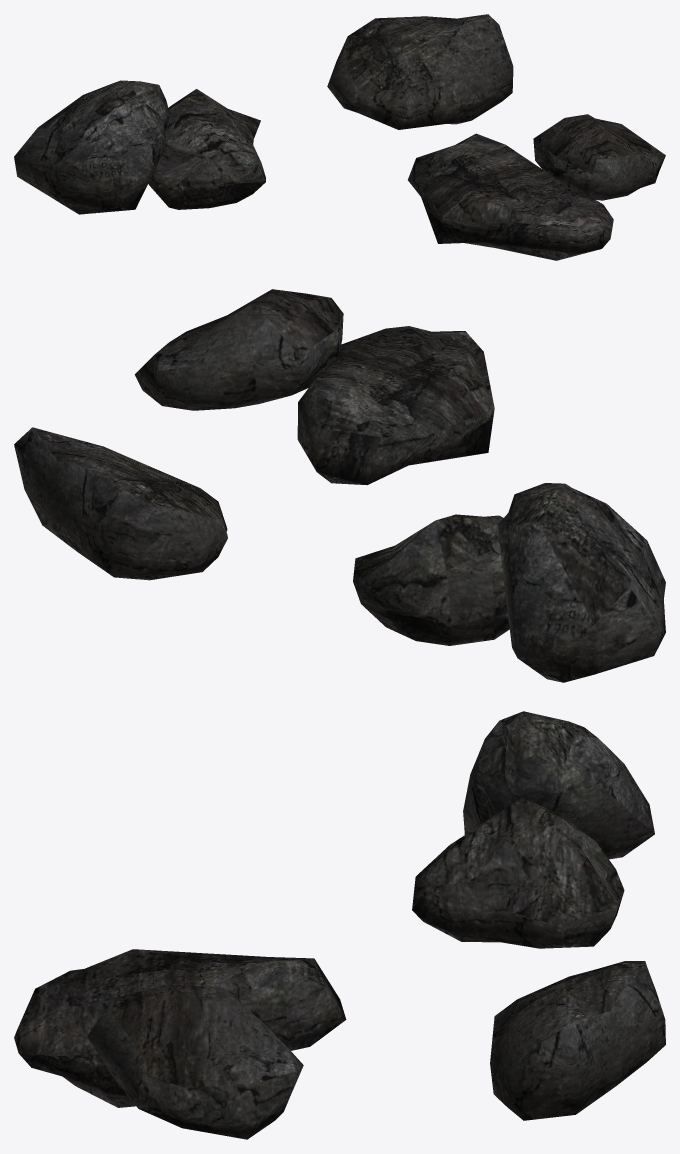
File: Rocks 6.glb
The picture shows the model from 3 angles, top to bottom: view 1: azimuth 30°, elevation 25°; view 2: azimuth 150°, elevation 25°; view 3: azimuth 270°, elevation 25°; orthographic projection. The views are drawn at different scales.
Visible parts, largest first — view 1: rocks_6_low; view 2: rocks_6_low; view 3: rocks_6_low.
Boxes of the visible parts, x1=… form: rocks_6_low: x1=14, y1=14, x2=665, y2=260; rocks_6_low: x1=14, y1=289, x2=665, y2=682; rocks_6_low: x1=14, y1=711, x2=665, y2=1139.
Size of the model in its own units: 0.4341 by 0.1109 by 0.3463.
1 material, 1 textured.
